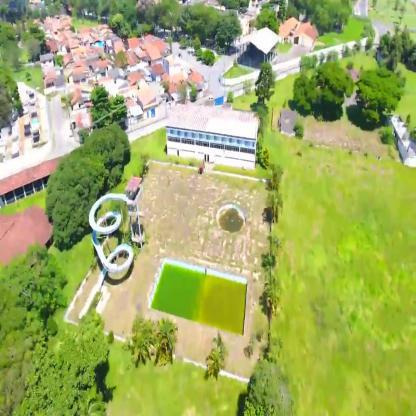agua: (165, 266, 240, 324), (220, 199, 247, 243)
